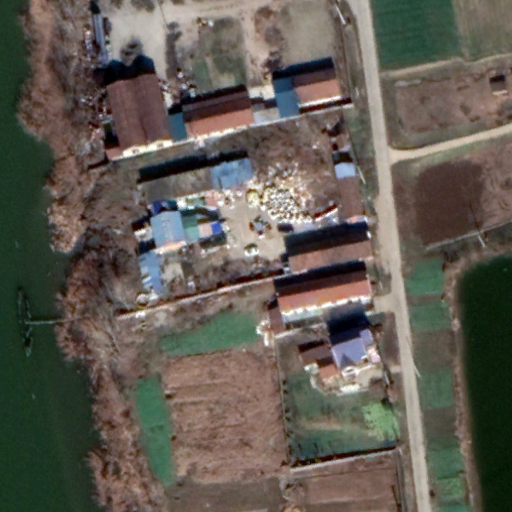msw: (248, 176, 315, 225)
